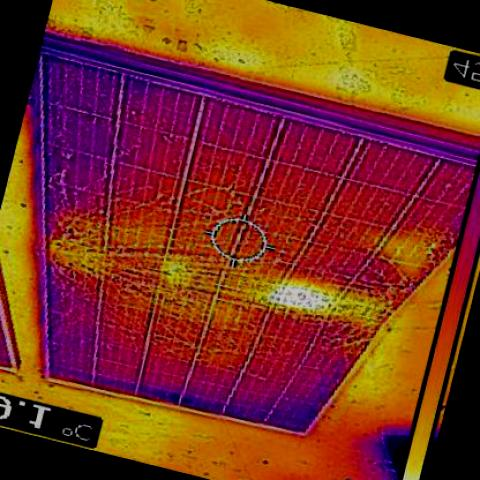fault: (280, 278, 338, 308)
